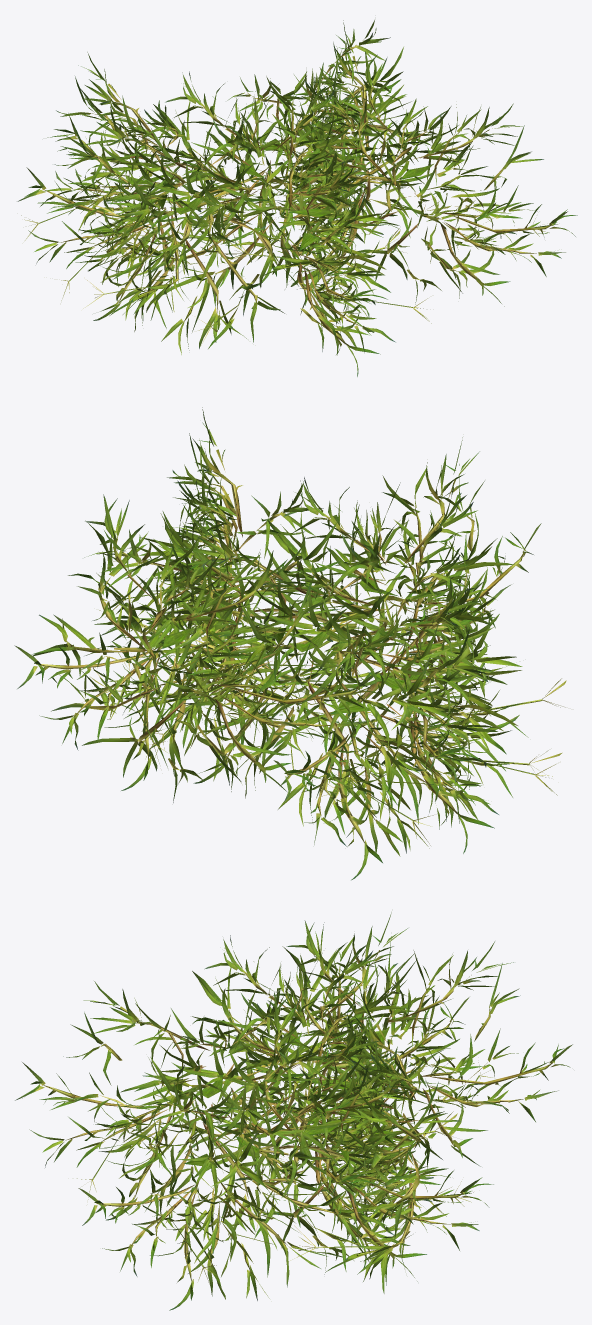
Rendered from alia_grass_clumps.glb.
The picture shows the model from 3 angles, top to bottom: view 1: azimuth 30°, elevation 25°; view 2: azimuth 150°, elevation 25°; view 3: azimuth 270°, elevation 25°; orthographic projection. The views are drawn at different scales.
Visible parts, largest first — view 1: Durba_Grass_Patch_3D; view 2: Durba_Grass_Patch_3D; view 3: Durba_Grass_Patch_3D.
Boxes of the visible parts, box(x1,y1,x2,y2) form: Durba_Grass_Patch_3D: box(17, 20, 577, 376); Durba_Grass_Patch_3D: box(14, 407, 566, 880); Durba_Grass_Patch_3D: box(15, 912, 572, 1310).
Size of the model in its own units: 1.52 by 0.8414 by 1.54.
Materials: 1 (1 with a texture image).
